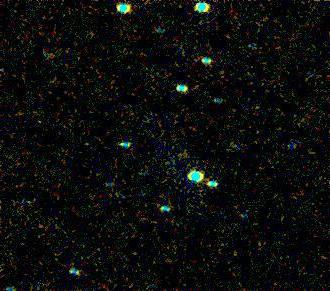star: (166, 140, 196, 170)
